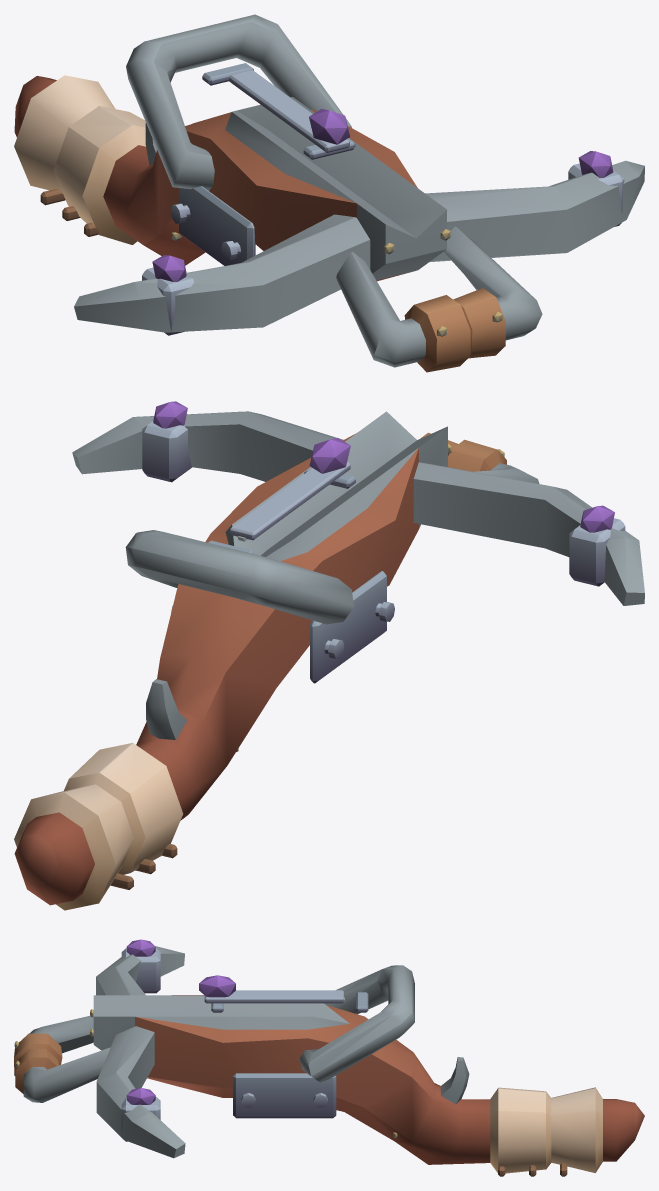
File: ballesta_runica_t3.glb
The picture shows the model from 3 angles, top to bottom: view 1: azimuth 30°, elevation 25°; view 2: azimuth 150°, elevation 25°; view 3: azimuth 270°, elevation 25°; orthographic projection. The views are drawn at different scales.
Visible parts, largest first — view 1: ballesta_runica_t3_finished; view 2: ballesta_runica_t3_finished; view 3: ballesta_runica_t3_finished.
Boxes of the visible parts, <box> form: ballesta_runica_t3_finished: <box>14,14,644,372</box>; ballesta_runica_t3_finished: <box>14,401,644,910</box>; ballesta_runica_t3_finished: <box>14,939,644,1176</box>.
Bounding box in the file's own units: 0.9114 × 0.4252 × 1.22.
2 materials, 2 textured.
